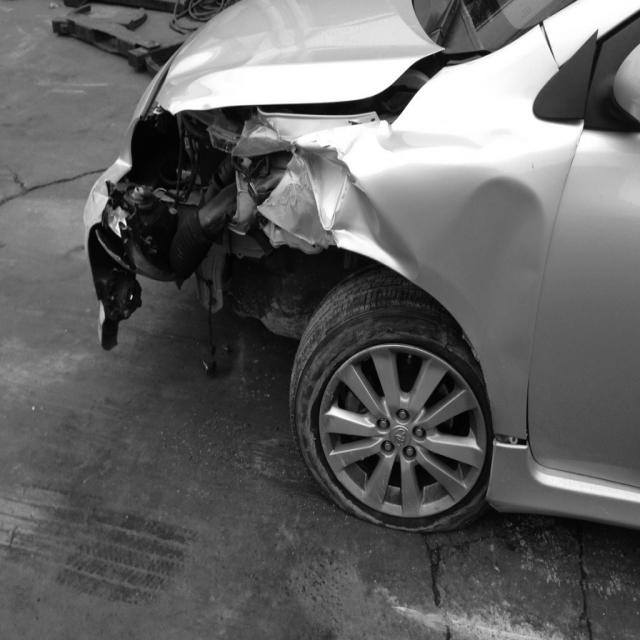crush: (83, 41, 554, 450)
